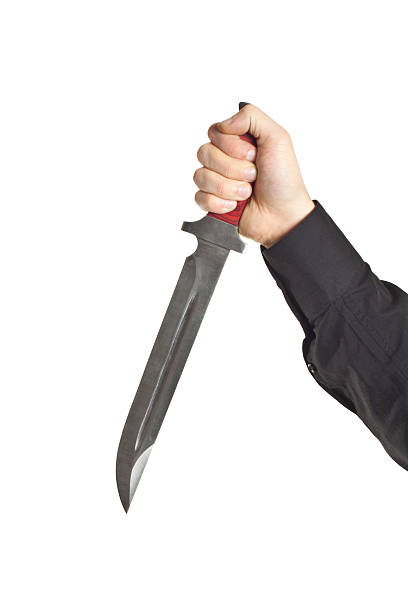knife: (113, 95, 275, 515)
